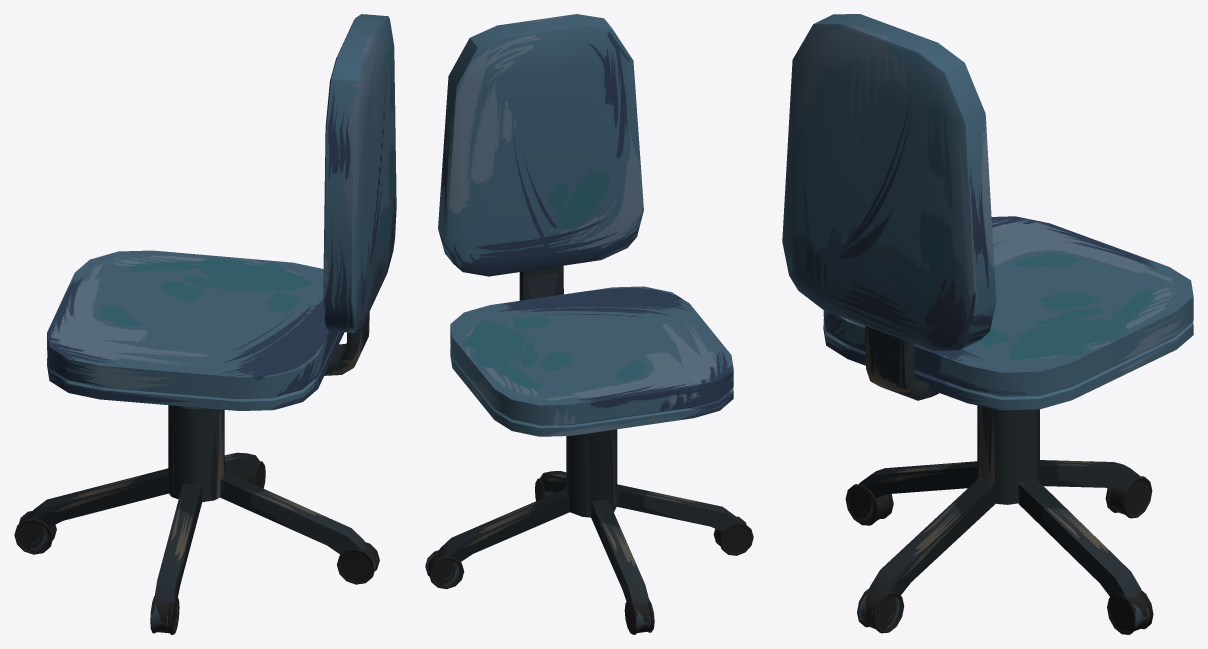
The model's file is krzeslo.fbx.
3 views of the same model, side by side, from view 1: azimuth 30°, elevation 25°; view 2: azimuth 150°, elevation 25°; view 3: azimuth 270°, elevation 25° (orthographic). The views are drawn at different scales.
Visible parts, largest first — view 1: chair_seat.001, chair backrest.001, chair_leg.001, chair_feet.006, chair_feet.001, chair_feet.008, chair_feet.007, chair_spine.001, chair_feet.002, chair_feet.009, chair_feet.004; view 2: chair backrest.001, chair_seat.001, chair_leg.001, chair_feet.004, chair_feet.008, chair_feet.001, chair_spine.001, chair_feet.005, chair_feet.009, chair_feet.002, chair_feet.006; view 3: chair backrest.001, chair_seat.001, chair_leg.001, chair_feet.006, chair_feet.004, chair_spine.001, chair_feet.008, chair_feet.001, chair_feet.007, chair_feet.005, chair_feet.009, chair_feet.002.
Boxes of the visible parts, x1,y1,x2,y2 form: chair_seat.001: (47,250,344,410); chair backrest.001: (323,14,396,332); chair_leg.001: (168,405,224,501); chair_feet.006: (220,471,365,554); chair_feet.001: (28,468,168,527); chair_feet.008: (154,483,202,602); chair_feet.007: (337,542,379,584); chair_spine.001: (324,312,369,375); chair_feet.002: (14,511,56,554); chair_feet.009: (150,595,179,634); chair_feet.004: (224,452,259,477); chair backrest.001: (438,14,643,276); chair_seat.001: (450,286,733,436); chair_leg.001: (566,429,617,517); chair_feet.004: (438,488,569,561); chair_feet.008: (616,484,740,531); chair_feet.001: (591,499,649,605); chair_spine.001: (519,265,563,300); chair_feet.005: (425,550,464,589); chair_feet.009: (713,516,753,555); chair_feet.002: (624,599,654,634); chair_feet.006: (539,471,566,492); chair backrest.001: (782,14,996,350); chair_seat.001: (823,216,1193,410); chair_leg.001: (977,405,1039,504); chair_feet.006: (869,477,995,596); chair_feet.004: (1018,478,1141,597); chair_spine.001: (865,326,939,400); chair_feet.008: (859,461,977,498); chair_feet.001: (1040,460,1140,491); chair_feet.007: (857,588,904,633); chair_feet.005: (1107,590,1153,634); chair_feet.009: (845,484,893,525); chair_feet.002: (1105,476,1152,518).
Size of the model in its own units: 77.44 by 121 by 75.44.
Materials: 6 (6 with a texture image).
